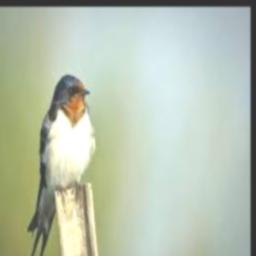Swallow: (25, 75, 96, 256)
